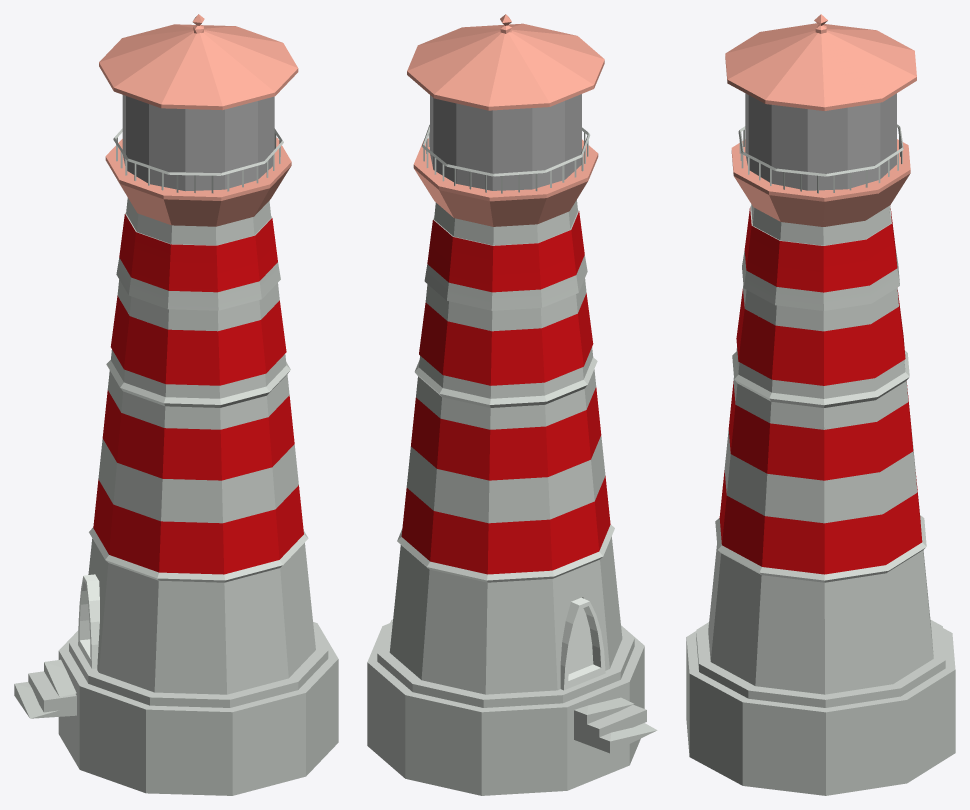
The model's file is LightHouse_New.fbx.
3 renders of one model, left to right at view 1: azimuth 30°, elevation 25°; view 2: azimuth 150°, elevation 25°; view 3: azimuth 270°, elevation 25°, orthographic.
Parts seen in each view (by area): view 1: Boole_1, Stairs_1, Sphere_1, Tube, Cylinder_2, Door, Array_1; view 2: Boole_1, Stairs_1, Sphere_1, Tube, Cylinder_2, Door, Array_1; view 3: Boole_1, Stairs_1, Sphere_1, Tube, Cylinder_2, Array_1.
Boxes of the visible parts, x1,y1,x2,y2 form: Boole_1: (88,197,315,694); Stairs_1: (14,622,338,795); Sphere_1: (99,14,298,110); Tube: (122,95,274,191); Cylinder_2: (105,137,291,226); Door: (78,574,99,668); Array_1: (113,128,283,193); Boole_1: (389,200,622,694); Stairs_1: (367,619,657,795); Sphere_1: (407,14,604,110); Tube: (430,94,581,190); Cylinder_2: (413,138,598,226); Door: (560,597,605,690); Array_1: (422,124,590,193); Boole_1: (708,204,933,694); Stairs_1: (686,619,955,795); Sphere_1: (725,14,916,110); Tube: (745,93,896,190); Cylinder_2: (731,139,910,226); Array_1: (738,124,903,193).
Size of the model in its own units: 6.57 by 16.15 by 5.45.
